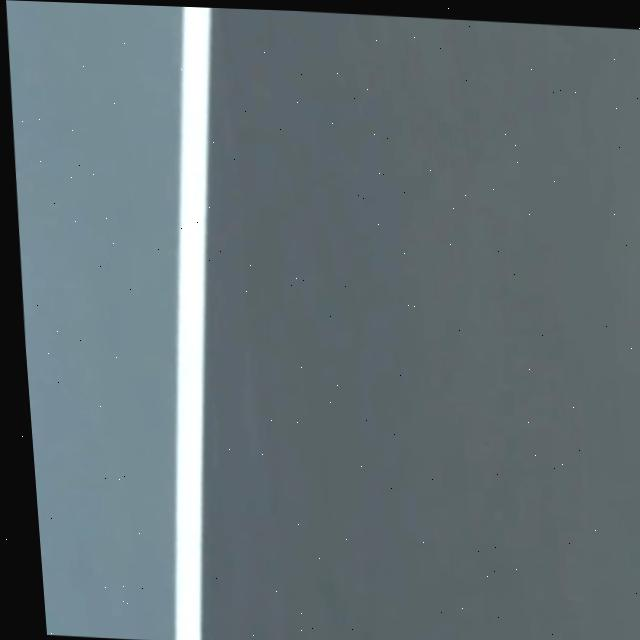left: (173, 7, 210, 640)
